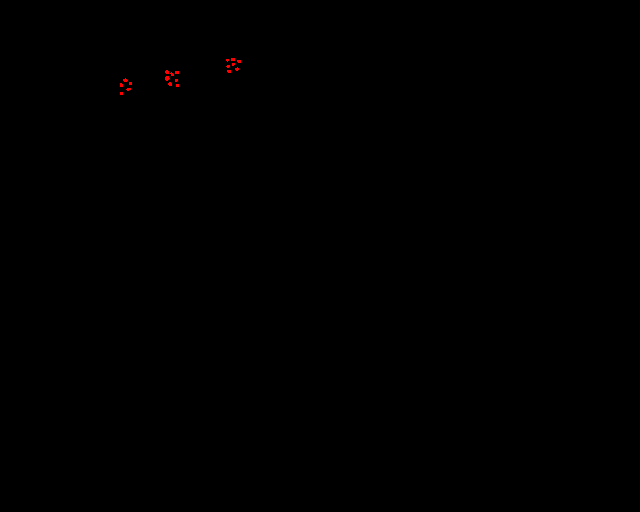Target: (165, 76, 170, 81), (123, 78, 128, 82), (235, 67, 239, 71), (165, 70, 169, 74), (170, 72, 174, 76), (168, 82, 172, 86), (126, 88, 131, 91), (231, 58, 235, 61), (237, 60, 241, 63), (226, 65, 230, 68), (227, 70, 231, 73), (175, 71, 179, 74), (120, 83, 123, 87), (226, 59, 229, 62), (232, 63, 235, 66), (175, 79, 178, 82), (129, 82, 132, 85), (176, 84, 179, 87), (120, 92, 123, 95)
